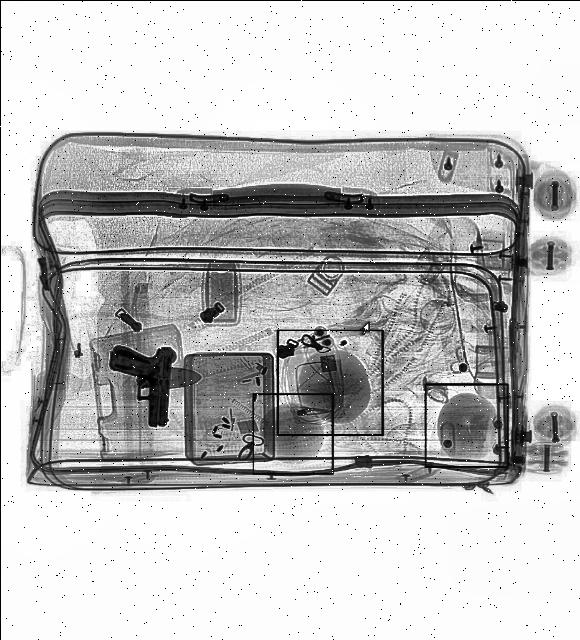Gun: (106, 344, 172, 424)
